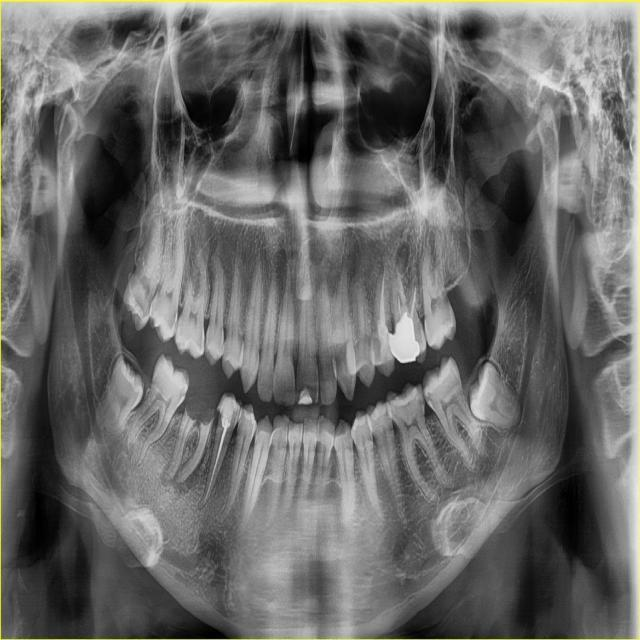74: (204, 417, 231, 503), (380, 264, 386, 323), (410, 284, 417, 319), (397, 293, 402, 318)
NucleOSS Implant: (381, 311, 424, 368)
Sterngold Implant: (180, 392, 219, 429), (144, 283, 158, 317), (178, 383, 188, 402), (400, 399, 414, 411), (424, 390, 434, 404), (135, 296, 144, 311), (171, 312, 177, 329), (418, 393, 425, 407), (200, 333, 205, 349), (205, 334, 209, 350)
Straumann Implant: (212, 390, 244, 425), (376, 321, 396, 376), (291, 384, 314, 409)
